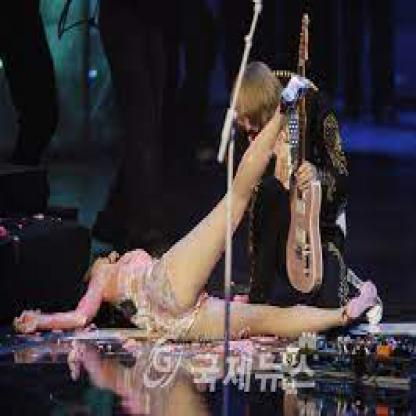Fall_Down: (15, 69, 381, 346)
